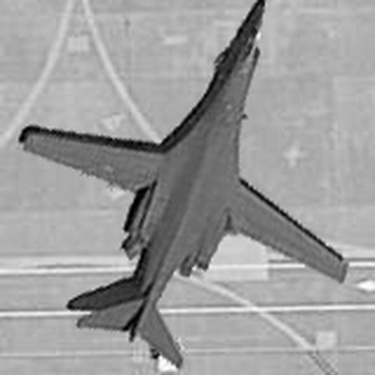airplane: (16, 9, 355, 372)
